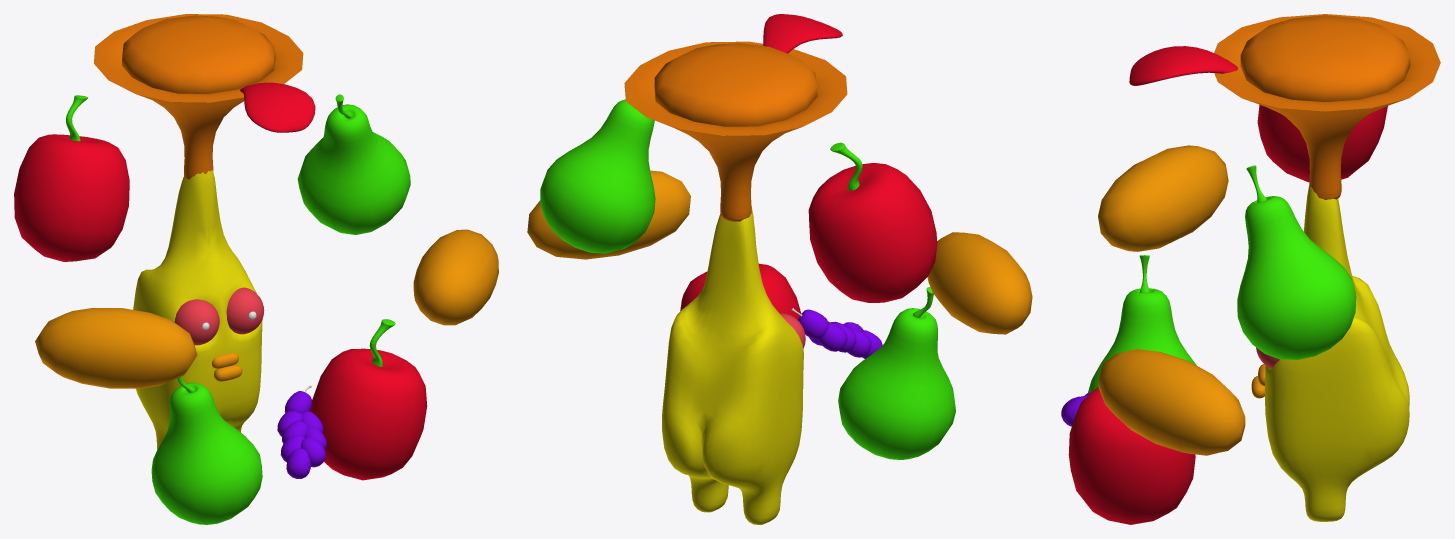
File: fruer bet.glb66.glb555555555.glb
3 renders of one model, left to right at view 1: azimuth 30°, elevation 25°; view 2: azimuth 150°, elevation 25°; view 3: azimuth 270°, elevation 25°, orthographic. The views are drawn at different scales.
Visible parts, largest first — view 1: Cube.001, Cube, Cube.022, Cube.004, Cube.002, Cube.023, Cube.020, Cube.024, Plane.002, Sphere, Cube.018; view 2: Cube, Cube.001, Cube.022, Cube.020, Cube.002, Cube.023, Cube.024, Plane.002, Cube.004, Cube.017; view 3: Cube, Cube.001, Cube.020, Cube.024, Cube.004, Cube.023, Cube.022, Cube.002, Plane.002.
Part boxes in pixels (x1,y1,x2,y2): Cube.001: [94, 14, 303, 179]; Cube: [133, 170, 262, 449]; Cube.022: [14, 134, 129, 261]; Cube.004: [310, 348, 427, 480]; Cube.002: [151, 382, 262, 524]; Cube.023: [35, 308, 197, 388]; Cube.020: [297, 104, 410, 234]; Cube.024: [413, 229, 498, 325]; Plane.002: [240, 82, 315, 132]; Sphere: [174, 287, 264, 345]; Cube.018: [286, 448, 310, 478]; Cube: [662, 207, 803, 524]; Cube.001: [624, 41, 847, 221]; Cube.022: [808, 163, 937, 302]; Cube.020: [540, 99, 655, 253]; Cube.002: [838, 308, 955, 459]; Cube.023: [927, 232, 1032, 334]; Cube.024: [527, 170, 690, 259]; Plane.002: [763, 14, 842, 53]; Cube.004: [680, 263, 801, 319]; Cube.017: [798, 309, 829, 339]; Cube: [1265, 184, 1409, 521]; Cube.001: [1214, 14, 1440, 199]; Cube.020: [1237, 196, 1356, 359]; Cube.024: [1098, 349, 1245, 455]; Cube.004: [1068, 386, 1195, 524]; Cube.023: [1098, 145, 1228, 251]; Cube.022: [1257, 104, 1387, 182]; Cube.002: [1088, 288, 1196, 392]; Plane.002: [1129, 46, 1237, 85].
Bounding box in the file's own units: 3.67 × 3.24 × 2.38.
